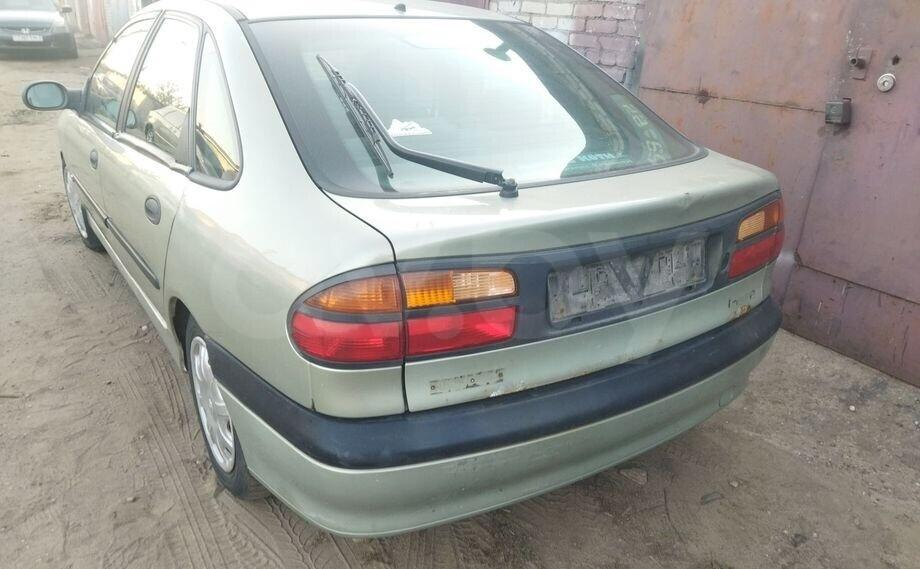Laguna_1998-2001: (23, 0, 789, 533)
